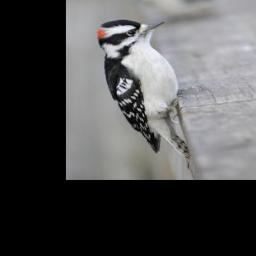Woodpecker: (87, 12, 193, 170)
